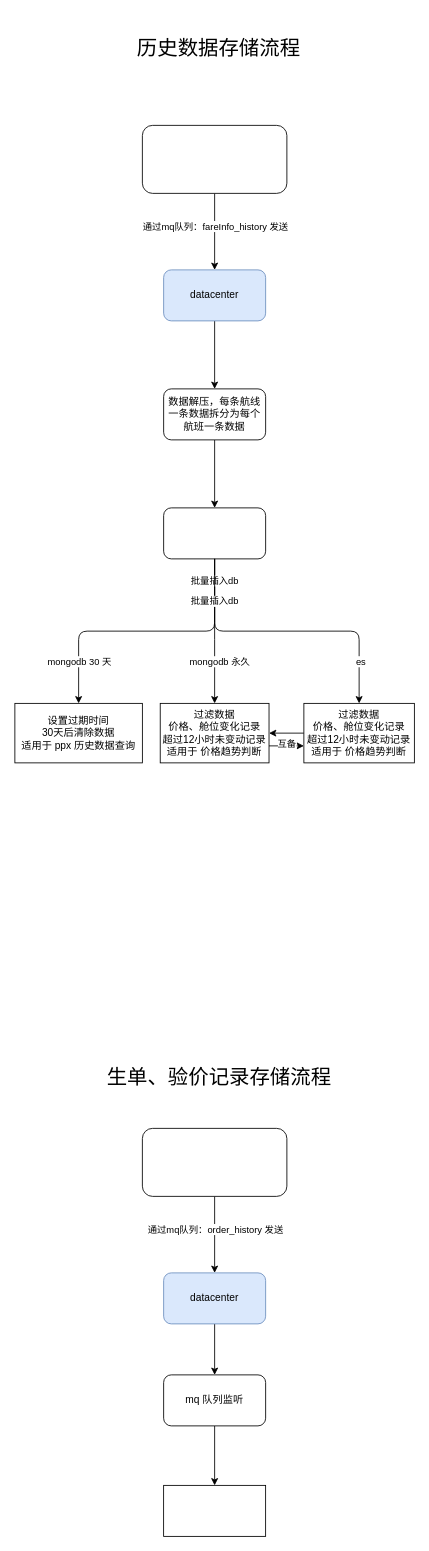
This 429x1551 diagram has some shape labels left out. The shapes that lost their labels are listed below. From the top down, each one's centre as x and y in pixels, then its label:
At point 214,159: "idgotatools-service （爬虫数据收集）".
At point 214,533: "数据整合，按起飞时间分组".
At point 214,1162: "otaSale （运价直连接口）".
At point 214,1510: "存储到华为云 mongodb".
